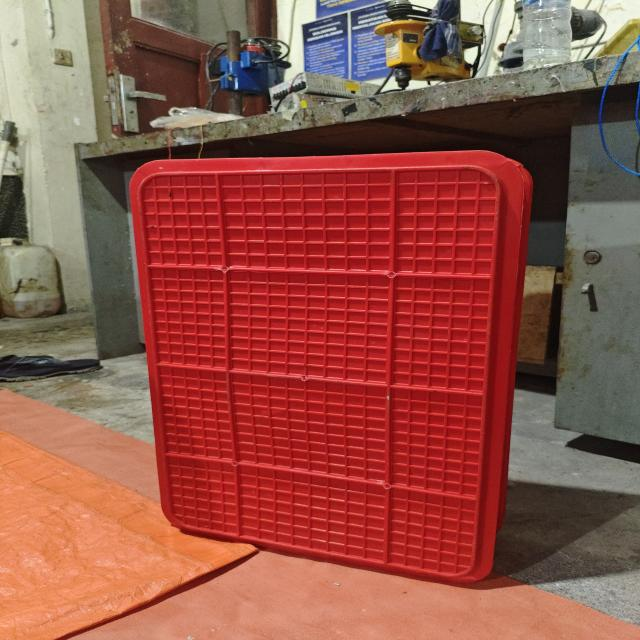red plastic box: (129, 150, 533, 582)
